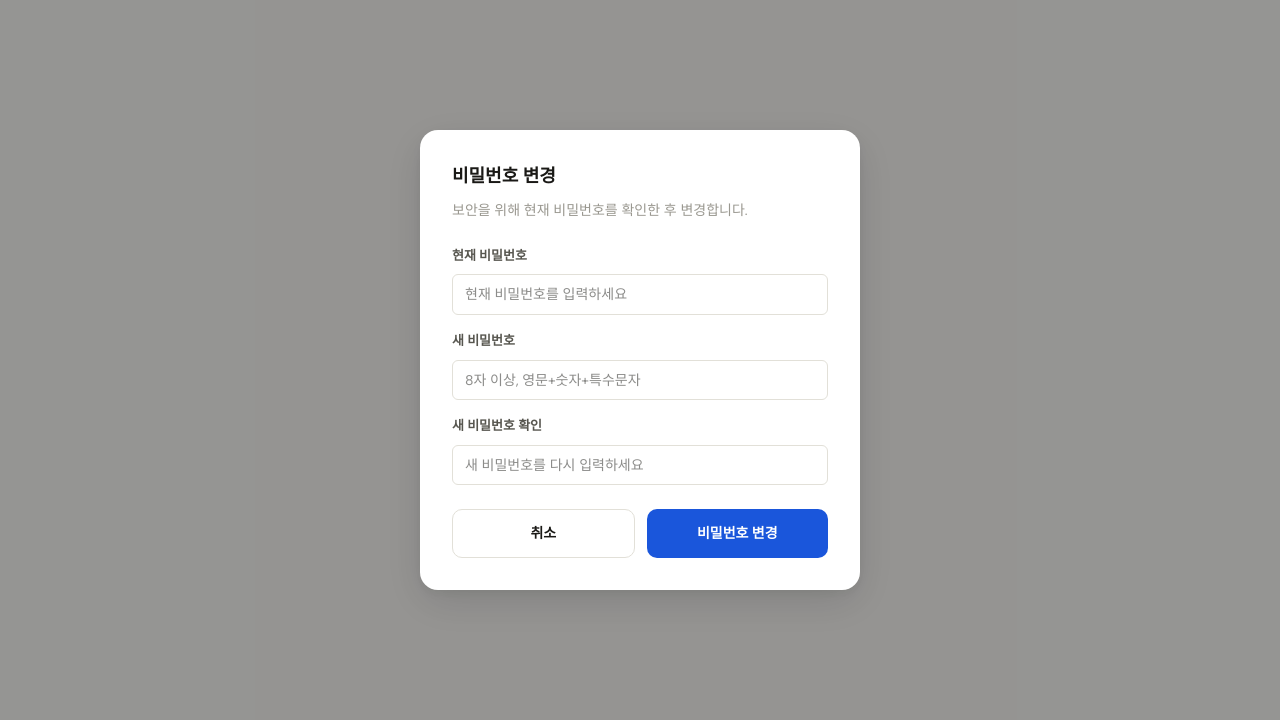
it: PasswordChangeModal › INVALID_CREDENTIALS 에러 시 에러 알림이 표시된다
Type "OldPass123!" into the password field labelled "현재 비밀번호" at (640, 295), box [452,274,828,315]
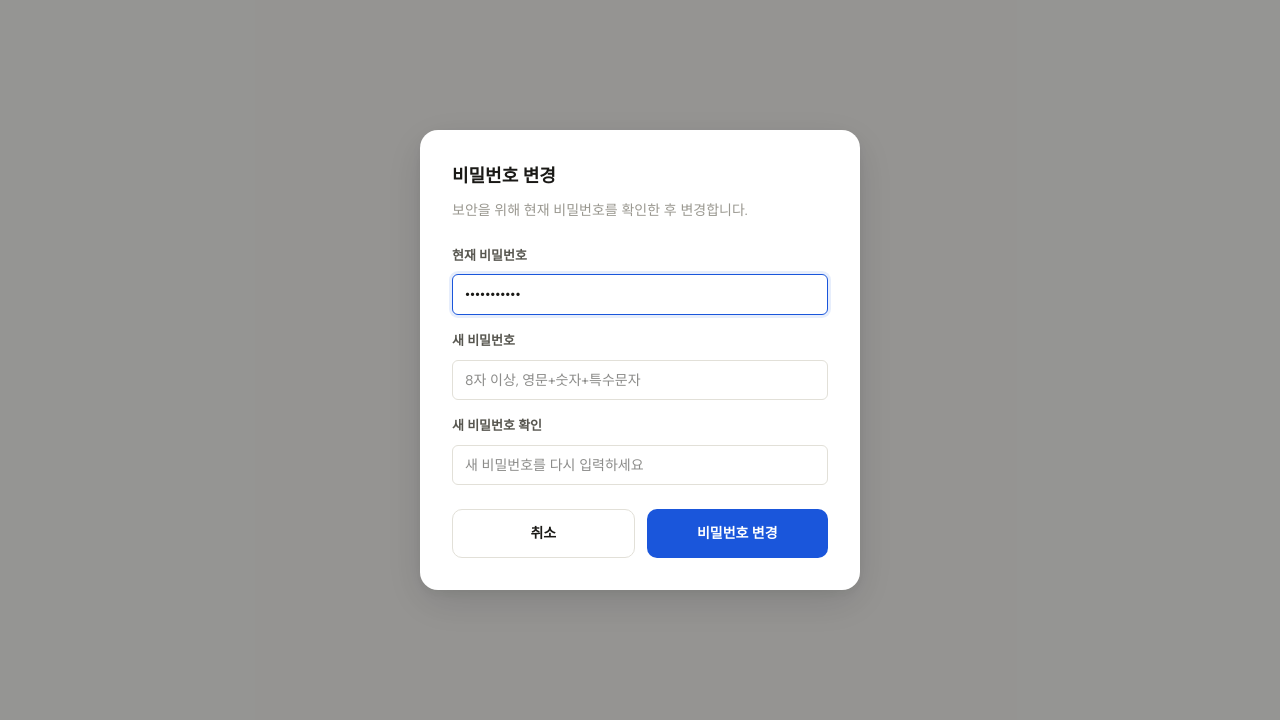
Type "NewPass123!" into the password field labelled "새 비밀번호" at (640, 380), box [452,360,828,400]
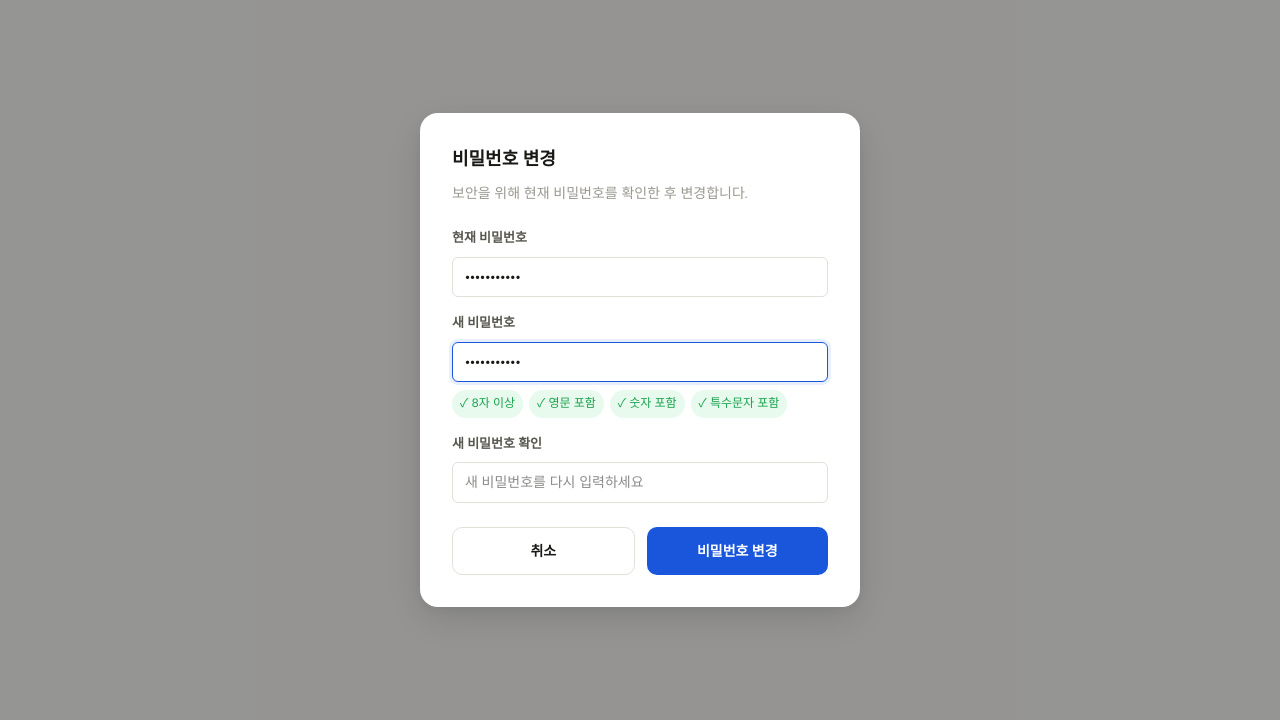
Type "NewPass123!" into the password field labelled "새 비밀번호 확인" at (640, 483), box [452,462,828,503]
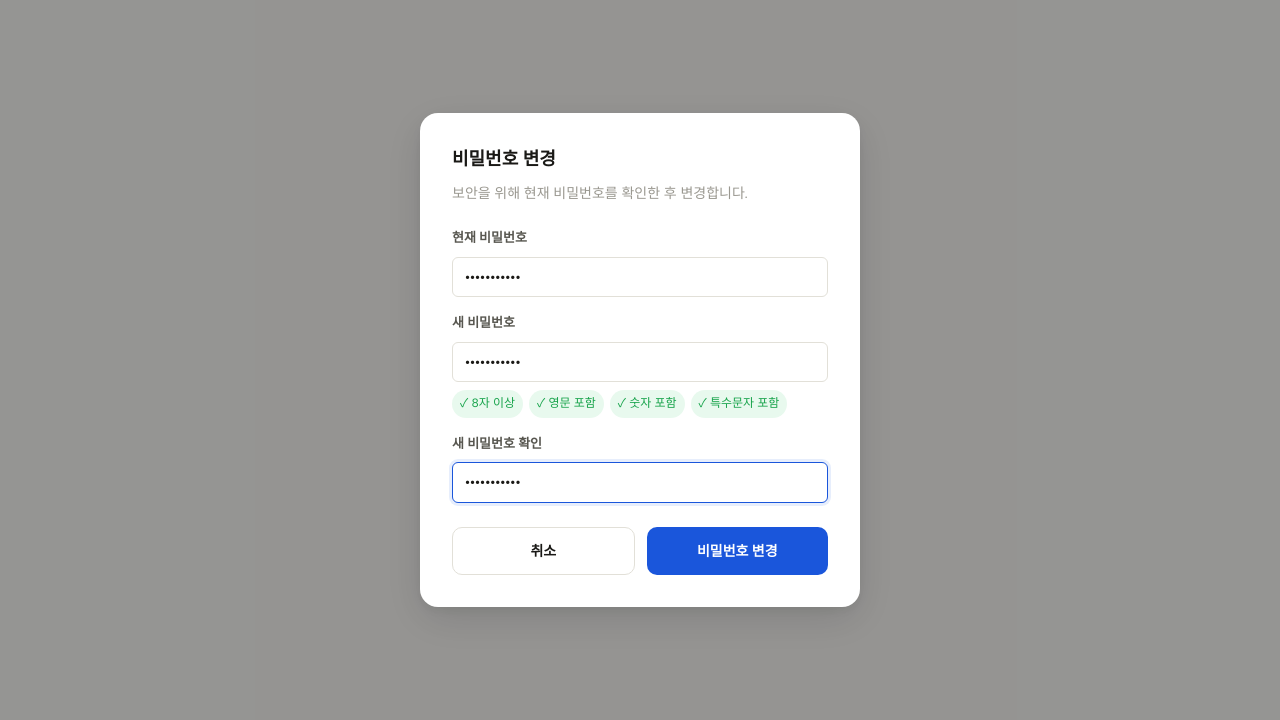
Click the button "비밀번호 변경" at (737, 551), box [646,527,828,575]
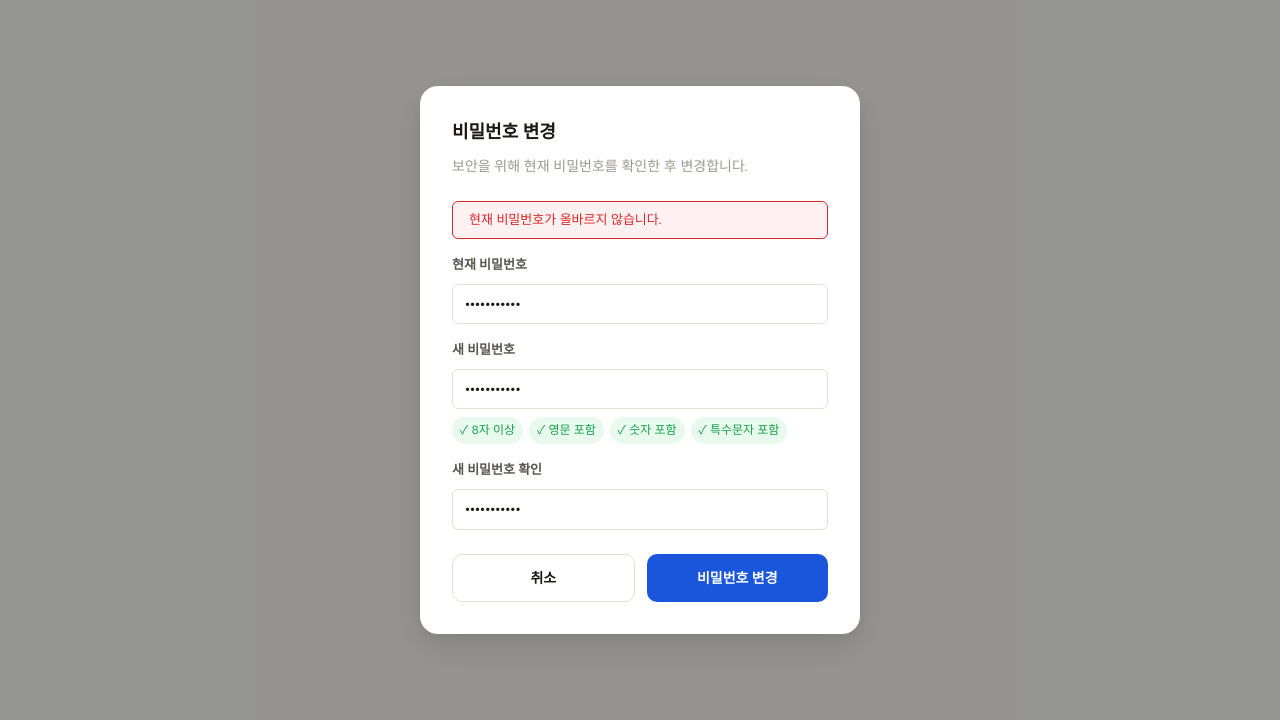
Result: the message "현재 비밀번호가 올바르지 않습니다." is shown at [452,201,828,239]
